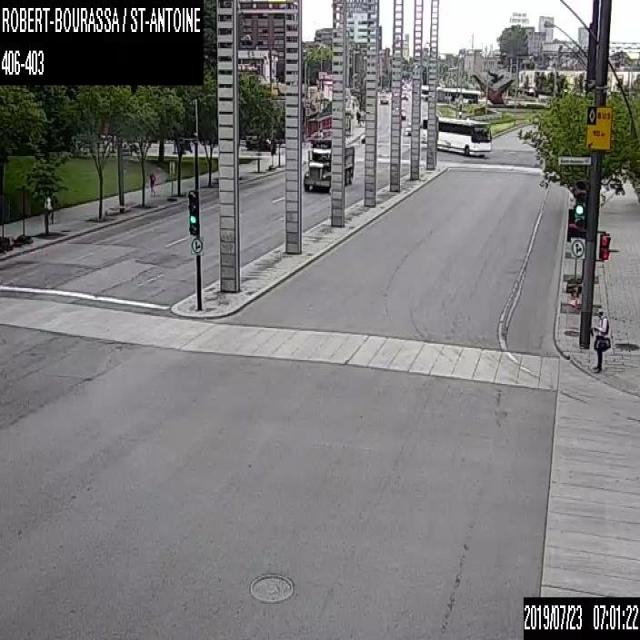bus: (422, 114, 492, 155), (420, 83, 480, 104)
pedestrian: (591, 308, 611, 371), (44, 194, 56, 223), (149, 169, 156, 196)
vehicle: (302, 136, 354, 189), (246, 129, 276, 153), (404, 121, 411, 135), (379, 94, 388, 104), (400, 106, 406, 119), (400, 91, 408, 100)
